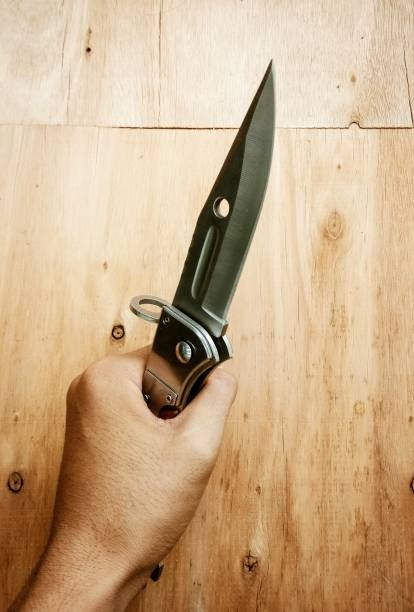knife: (129, 51, 281, 441)
